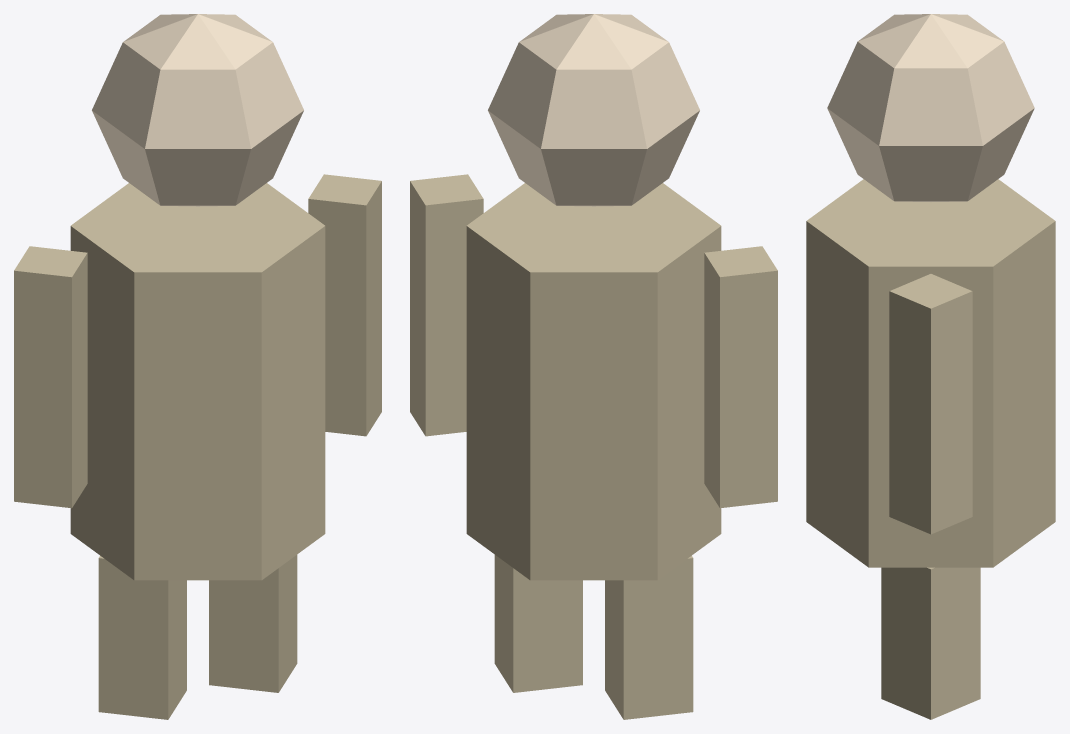
File: cheese_maker.glb
The picture shows the model from 3 angles, left to right: view 1: azimuth 30°, elevation 25°; view 2: azimuth 150°, elevation 25°; view 3: azimuth 270°, elevation 25°; orthographic projection. The views are drawn at different scales.
Visible parts, largest first — view 1: cheese_maker_torso, cheese_maker_head, cheese_maker_arm_l, cheese_maker_arm_r, cheese_maker_leg_l, cheese_maker_leg_r; view 2: cheese_maker_torso, cheese_maker_head, cheese_maker_arm_l, cheese_maker_arm_r, cheese_maker_leg_l, cheese_maker_leg_r; view 3: cheese_maker_torso, cheese_maker_head, cheese_maker_arm_r, cheese_maker_leg_r.
Boxes of the visible parts, bbox=[...] form: cheese_maker_torso: bbox=[70, 183, 325, 580]; cheese_maker_head: bbox=[92, 14, 303, 206]; cheese_maker_arm_l: bbox=[14, 246, 87, 508]; cheese_maker_arm_r: bbox=[308, 174, 381, 436]; cheese_maker_leg_l: bbox=[98, 555, 186, 719]; cheese_maker_leg_r: bbox=[209, 555, 297, 692]; cheese_maker_torso: bbox=[466, 183, 721, 580]; cheese_maker_head: bbox=[488, 14, 699, 206]; cheese_maker_arm_l: bbox=[704, 246, 777, 508]; cheese_maker_arm_r: bbox=[410, 174, 483, 436]; cheese_maker_leg_l: bbox=[605, 555, 693, 719]; cheese_maker_leg_r: bbox=[494, 555, 582, 692]; cheese_maker_torso: bbox=[806, 179, 1055, 567]; cheese_maker_head: bbox=[827, 14, 1034, 201]; cheese_maker_arm_r: bbox=[889, 274, 972, 534]; cheese_maker_leg_r: bbox=[881, 567, 980, 719].
Bounding box in the file's own units: 0.375 × 0.6562 × 0.225.
